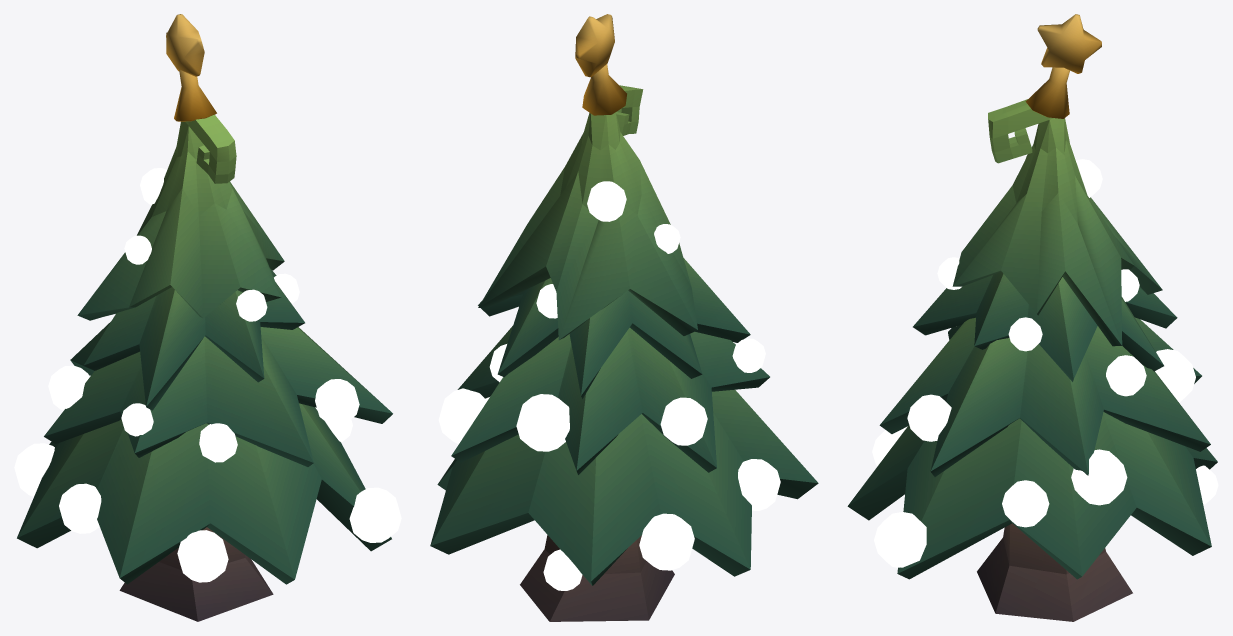
File: C_Tree_03.glb
The picture shows the model from 3 angles, left to right: view 1: azimuth 30°, elevation 25°; view 2: azimuth 150°, elevation 25°; view 3: azimuth 270°, elevation 25°; orthographic projection. The views are drawn at different scales.
Parts seen in each view (by area): view 1: treetop.001, treetop.002, treetop.004, treetop.003, christmastree, sphere_blue.004 (×3), sphere_purple.003 (×3), sphere_red.004 (×3), sphere_yellow.002 (×2), star, star_topper; view 2: treetop.001, treetop.004, treetop.002, treetop.003, christmastree, sphere_purple.003 (×3), sphere_red.004 (×3), sphere_yellow.002 (×2), sphere_blue.004 (×2), star, star_topper; view 3: treetop.001, treetop.002, treetop.004, treetop.003, christmastree, sphere_yellow.002 (×3), sphere_blue.004 (×4), sphere_red.004 (×3), star, sphere_purple.003, star_topper.
Part boxes in pixels (box(x1,y1,x2,y2)): treetop.001: box(17, 403, 391, 584); treetop.002: box(44, 322, 392, 466); treetop.004: box(77, 114, 284, 320); treetop.003: box(83, 268, 304, 410); christmastree: box(119, 527, 273, 621); sphere_blue.004 (×3): box(48, 365, 359, 582); sphere_purple.003 (×3): box(14, 235, 237, 496); sphere_red.004 (×3): box(59, 168, 267, 533); sphere_yellow.002 (×2): box(121, 403, 401, 542); star: box(166, 14, 204, 76); star_topper: box(174, 69, 216, 121); treetop.001: box(430, 389, 818, 585); treetop.004: box(478, 85, 697, 339); treetop.002: box(451, 326, 769, 474); treetop.003: box(478, 258, 750, 398); christmastree: box(520, 535, 674, 621); sphere_purple.003 (×3): box(438, 224, 694, 570); sphere_red.004 (×3): box(536, 181, 780, 510); sphere_yellow.002 (×2): box(516, 338, 765, 451); sphere_blue.004 (×2): box(543, 397, 707, 590); star: box(575, 14, 614, 77); star_topper: box(582, 64, 626, 115); treetop.001: box(847, 412, 1217, 579); treetop.002: box(879, 317, 1210, 476); treetop.004: box(952, 99, 1162, 346); treetop.003: box(913, 271, 1177, 381); christmastree: box(977, 523, 1132, 621); sphere_yellow.002 (×3): box(874, 317, 1195, 567); sphere_blue.004 (×4): box(872, 355, 1218, 504); sphere_red.004 (×3): box(937, 159, 1102, 527); star: box(1037, 14, 1101, 73); sphere_purple.003: box(1071, 449, 1127, 505); star_topper: box(1025, 67, 1069, 118).
Bounding box in the file's own units: 6.75 × 11.96 × 7.03.
Materials: 8 (7 with a texture image).
